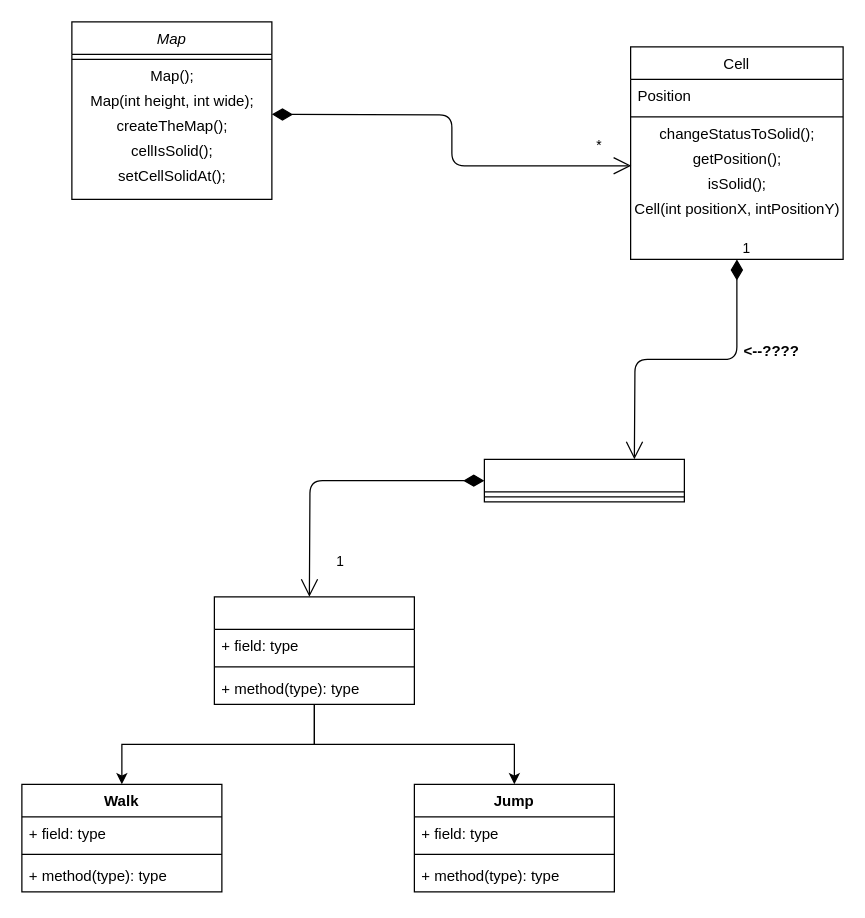
Image size: 865x918. Some labels were removed from this diagram. Each missing label, with the box of its shape:
Movement: (213, 596, 414, 704)
Player: (483, 458, 684, 502)
